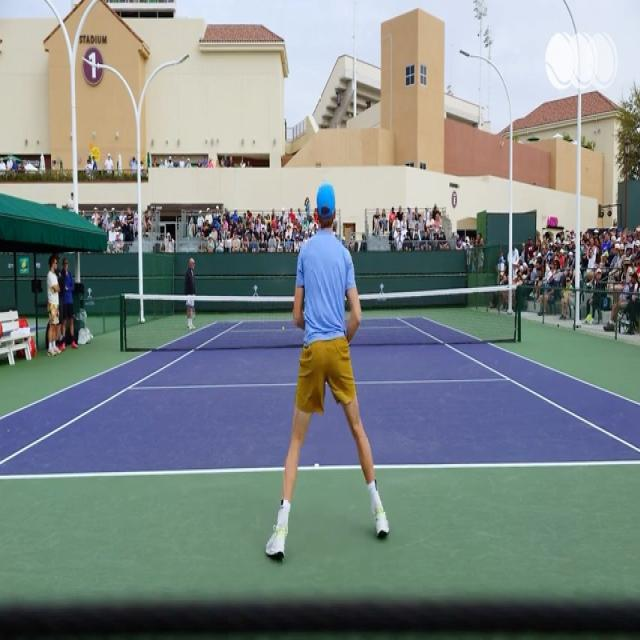ready-position: (268, 187, 388, 554)
